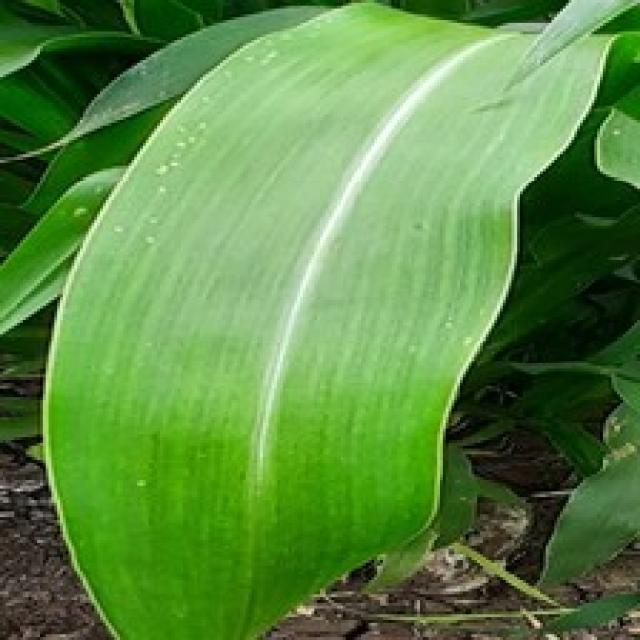Corn: (34, 0, 617, 637)
